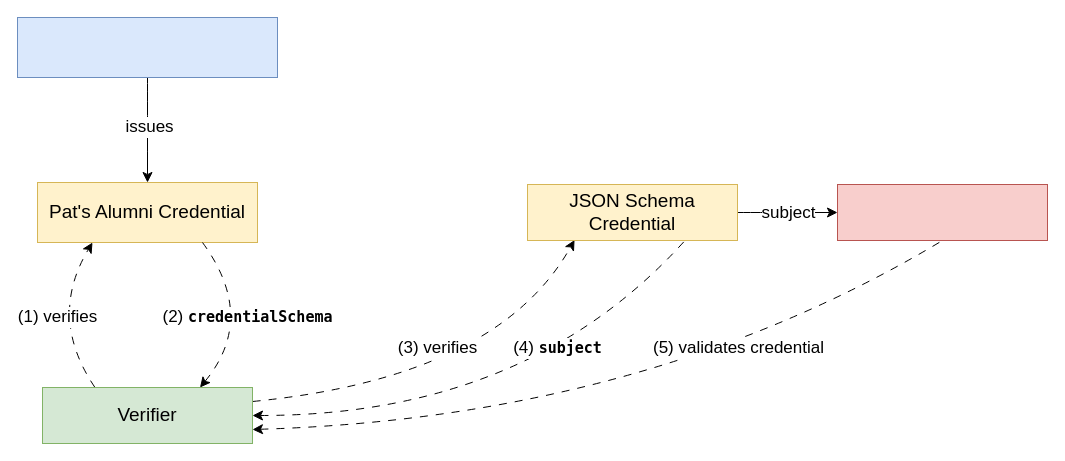
Image size: 1065x461. Some labels were removed from this diagram. Each missing label, with the centre of its shape:
JSON Schema: (942,212)
School of Computer Science (Issuer): (147,47)
